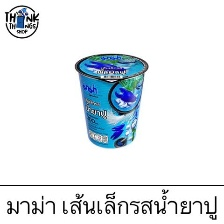paper_cup: (71, 49, 151, 153)
